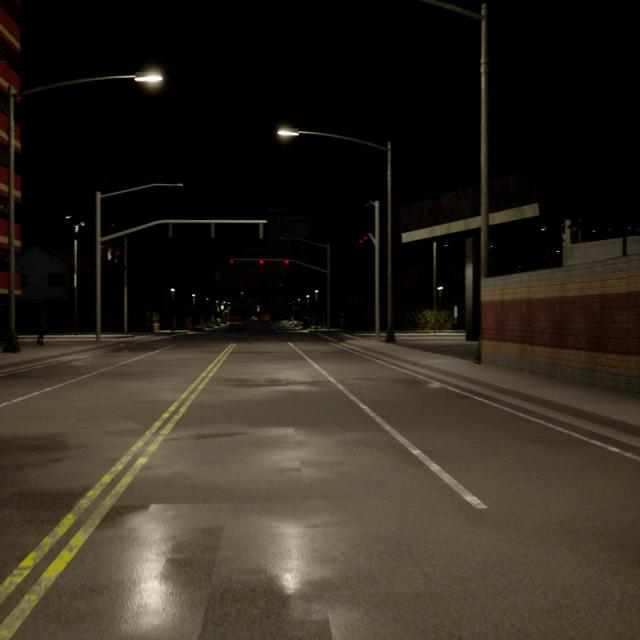Pedestrian: (37, 310, 44, 345)
Vehicle: (229, 318, 243, 332), (260, 313, 270, 324)
traffic_light: (211, 223, 215, 237), (115, 252, 120, 262), (260, 223, 263, 239), (108, 248, 112, 260), (169, 223, 172, 236), (259, 259, 264, 264), (284, 259, 289, 264), (101, 245, 104, 253), (230, 259, 234, 263), (364, 236, 367, 240), (360, 240, 363, 243)
